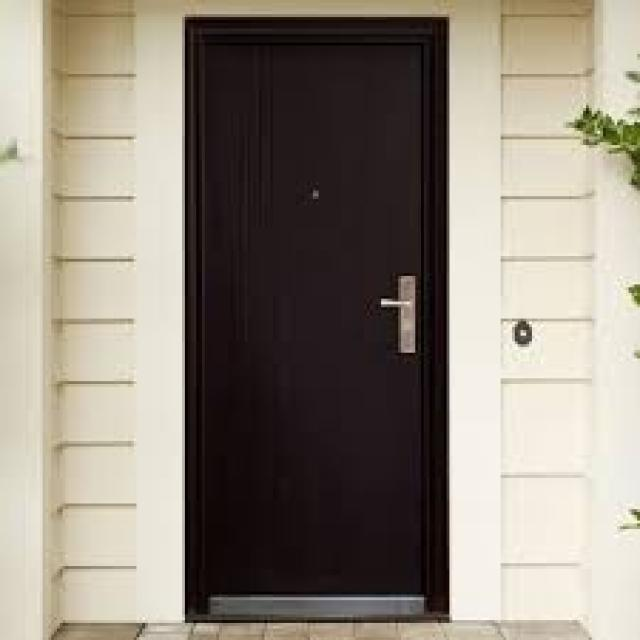door: (185, 17, 446, 617)
